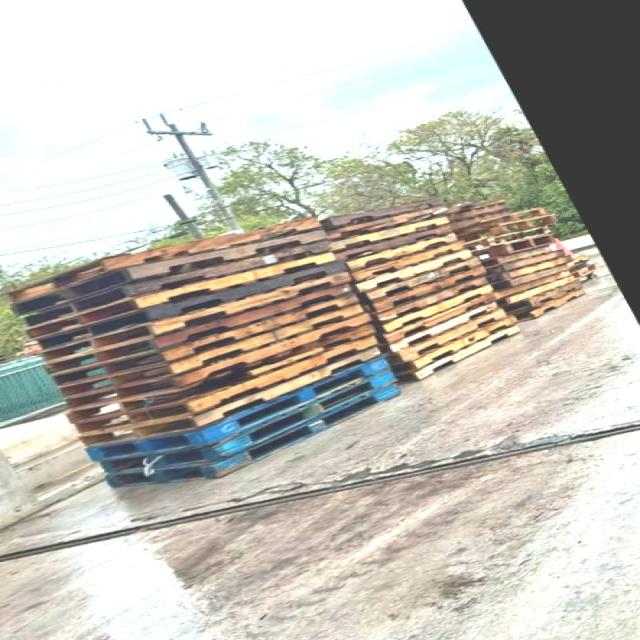non-igps: (79, 348, 395, 467), (60, 318, 385, 428), (92, 364, 408, 477), (55, 308, 384, 416), (69, 340, 390, 450), (66, 332, 390, 439), (53, 300, 376, 406), (99, 380, 407, 491), (44, 288, 371, 392), (37, 278, 364, 380), (2, 224, 337, 323), (33, 268, 364, 367), (30, 256, 356, 356), (17, 246, 349, 342), (15, 235, 341, 330), (0, 213, 328, 307), (384, 313, 524, 379), (384, 323, 525, 387), (379, 305, 510, 367), (379, 288, 501, 348), (352, 252, 485, 306), (384, 298, 501, 356), (350, 244, 478, 296), (366, 262, 491, 315), (380, 282, 501, 336), (372, 274, 495, 326), (347, 238, 472, 285), (329, 221, 458, 265), (322, 214, 459, 255), (322, 203, 454, 244), (344, 230, 466, 274), (314, 195, 450, 232), (487, 261, 584, 310), (490, 275, 587, 318), (452, 212, 566, 248), (449, 205, 554, 240), (484, 267, 576, 304), (481, 254, 581, 286), (469, 232, 560, 266), (484, 260, 574, 294), (508, 288, 590, 324), (458, 224, 556, 254), (477, 247, 569, 278), (477, 242, 556, 270), (446, 205, 516, 235), (440, 198, 515, 225)
